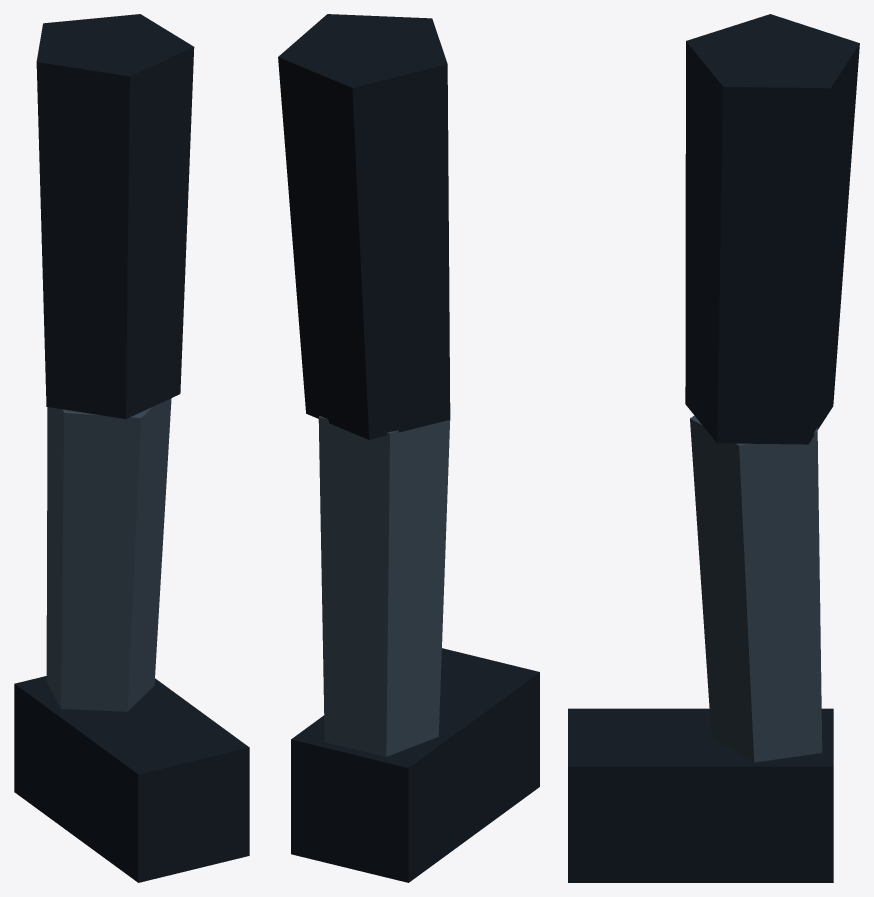
Rendered from soldier_leg_r.glb.
3 renders of one model, left to right at view 1: azimuth 30°, elevation 25°; view 2: azimuth 150°, elevation 25°; view 3: azimuth 270°, elevation 25°, orthographic. The views are drawn at different scales.
Parts seen in each view (by area): view 1: soldier_leg_r; view 2: soldier_leg_r; view 3: soldier_leg_r.
Boxes of the visible parts, x1,y1,x2,y2 form: soldier_leg_r: (14, 14, 249, 882); soldier_leg_r: (278, 14, 539, 882); soldier_leg_r: (568, 14, 859, 882).
Bounding box in the file's own units: 0.1831 × 0.9739 × 0.3187.
